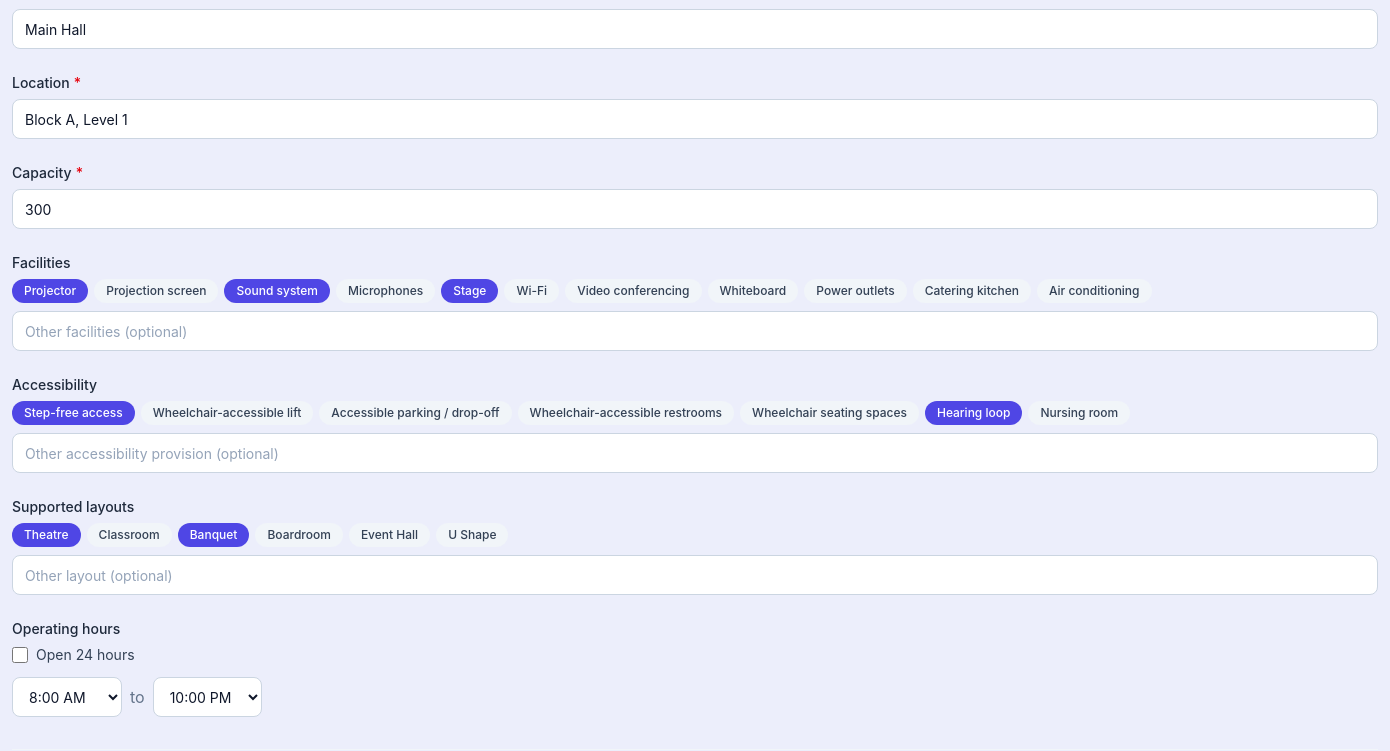
Test: US-14: editing a venue › AC-4: flags a cleared required field and does not report it saved
The width and height of the screenshot is (1390, 751).
Clear the field labelled "Venue name*" at (695, 29), box [12,9,1378,49]
(page scrolled)
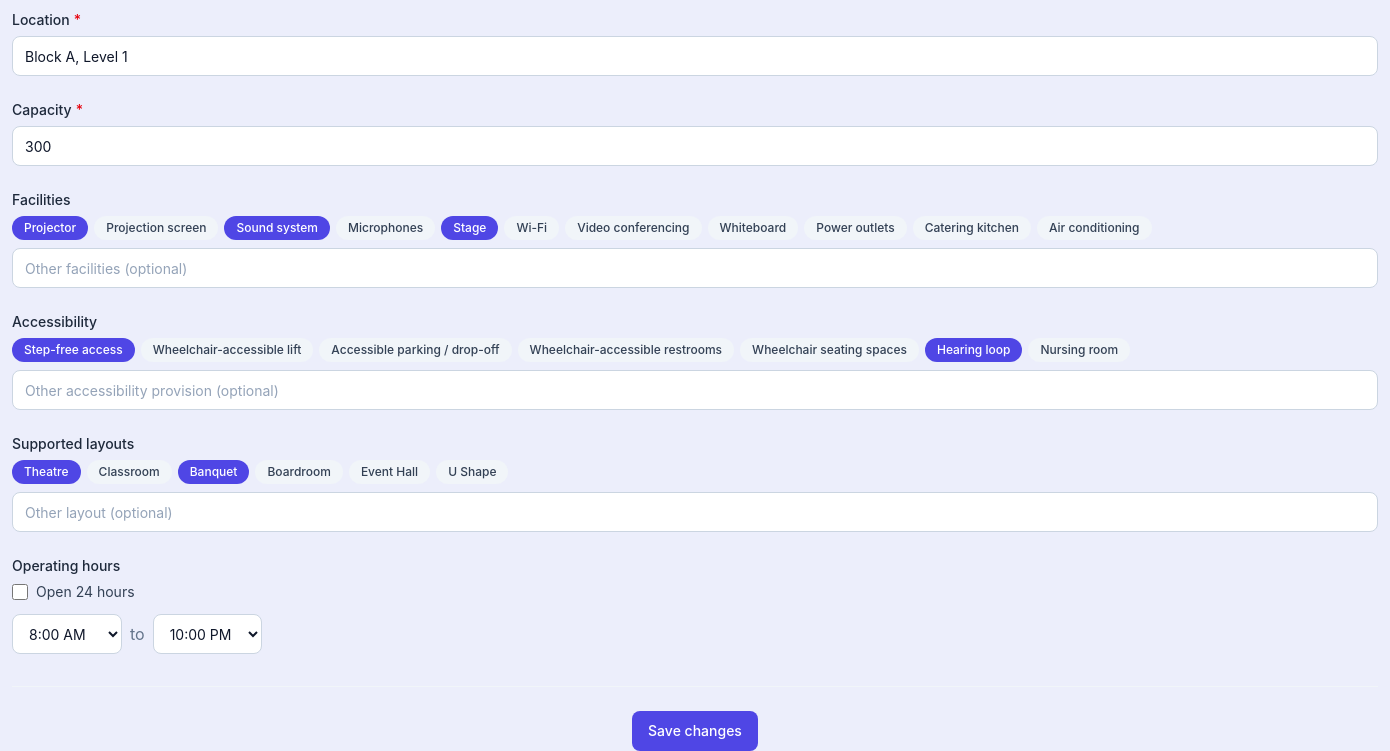
Click the button "Save changes" at (695, 731), box [632,711,758,750]
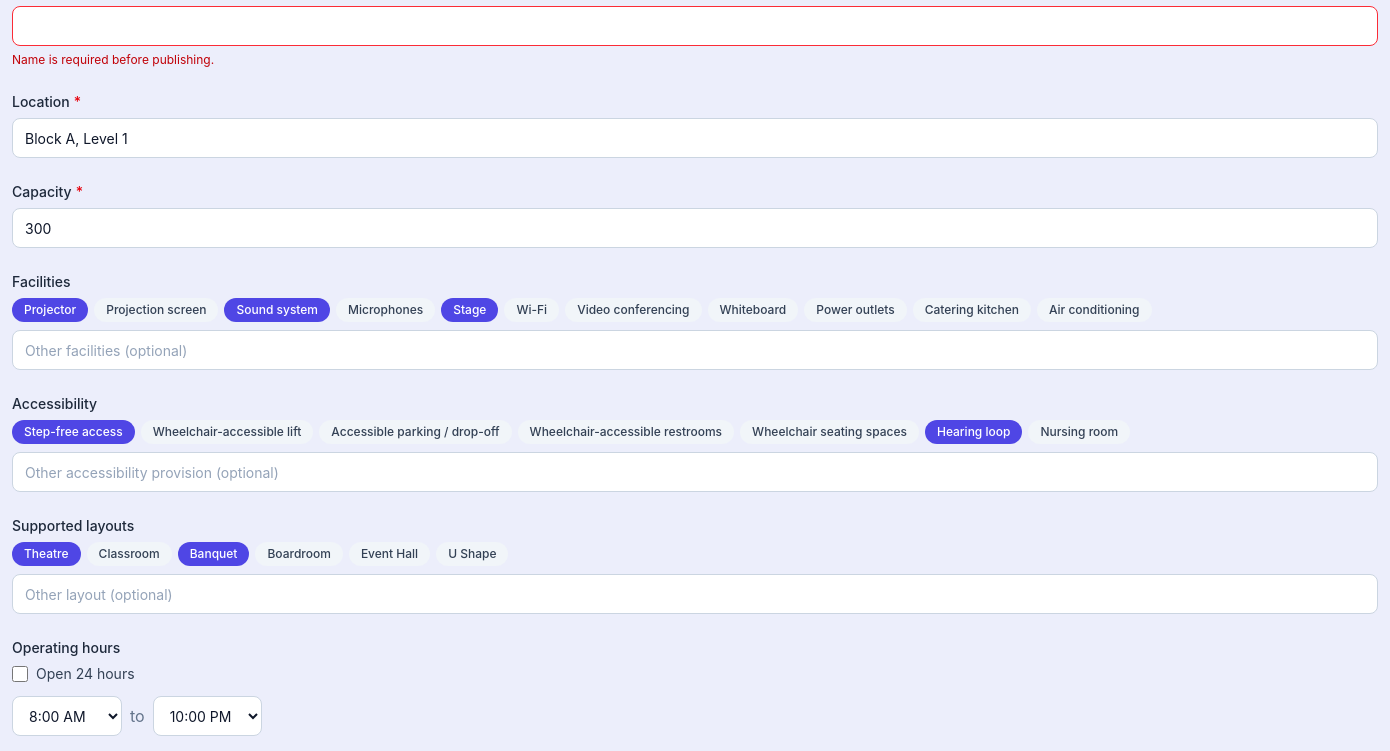
Expected: the list shows "Name is required", [12,52,214,67]
